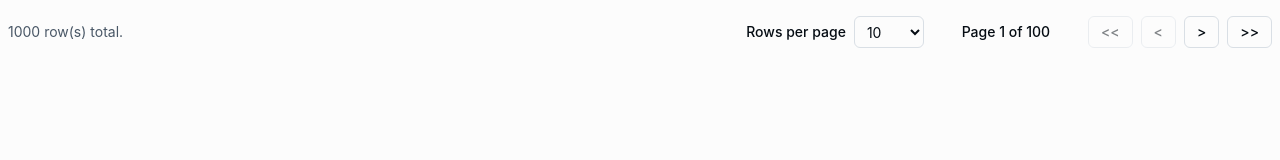
Test: TablePagination › large datasets › navigates correctly in large dataset
The width and height of the screenshot is (1280, 160).
Click the button ">>": (1250, 32) [1227,16,1272,48]
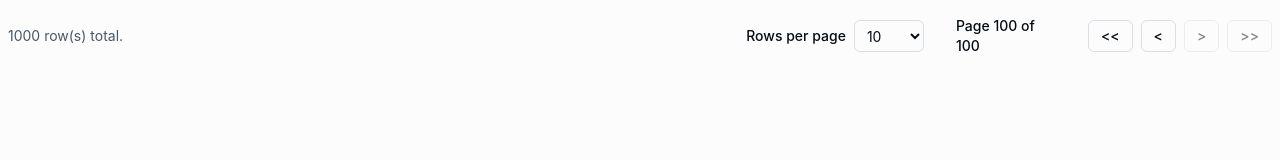
Now the text "Page 100 of 100" is shown, box [956,17,1035,54]
Click the button "<<": (1110, 36) [1088,20,1133,52]
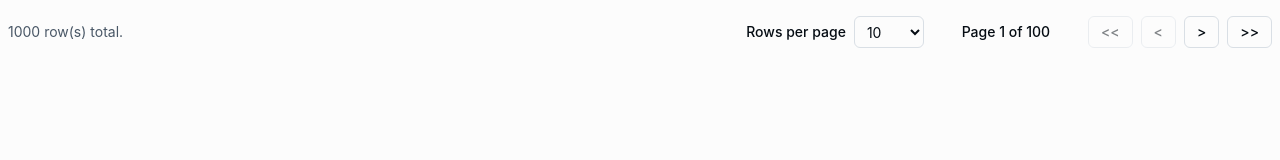
Now the text "Page 1 of 100" is shown, box [956,22,1056,42]
